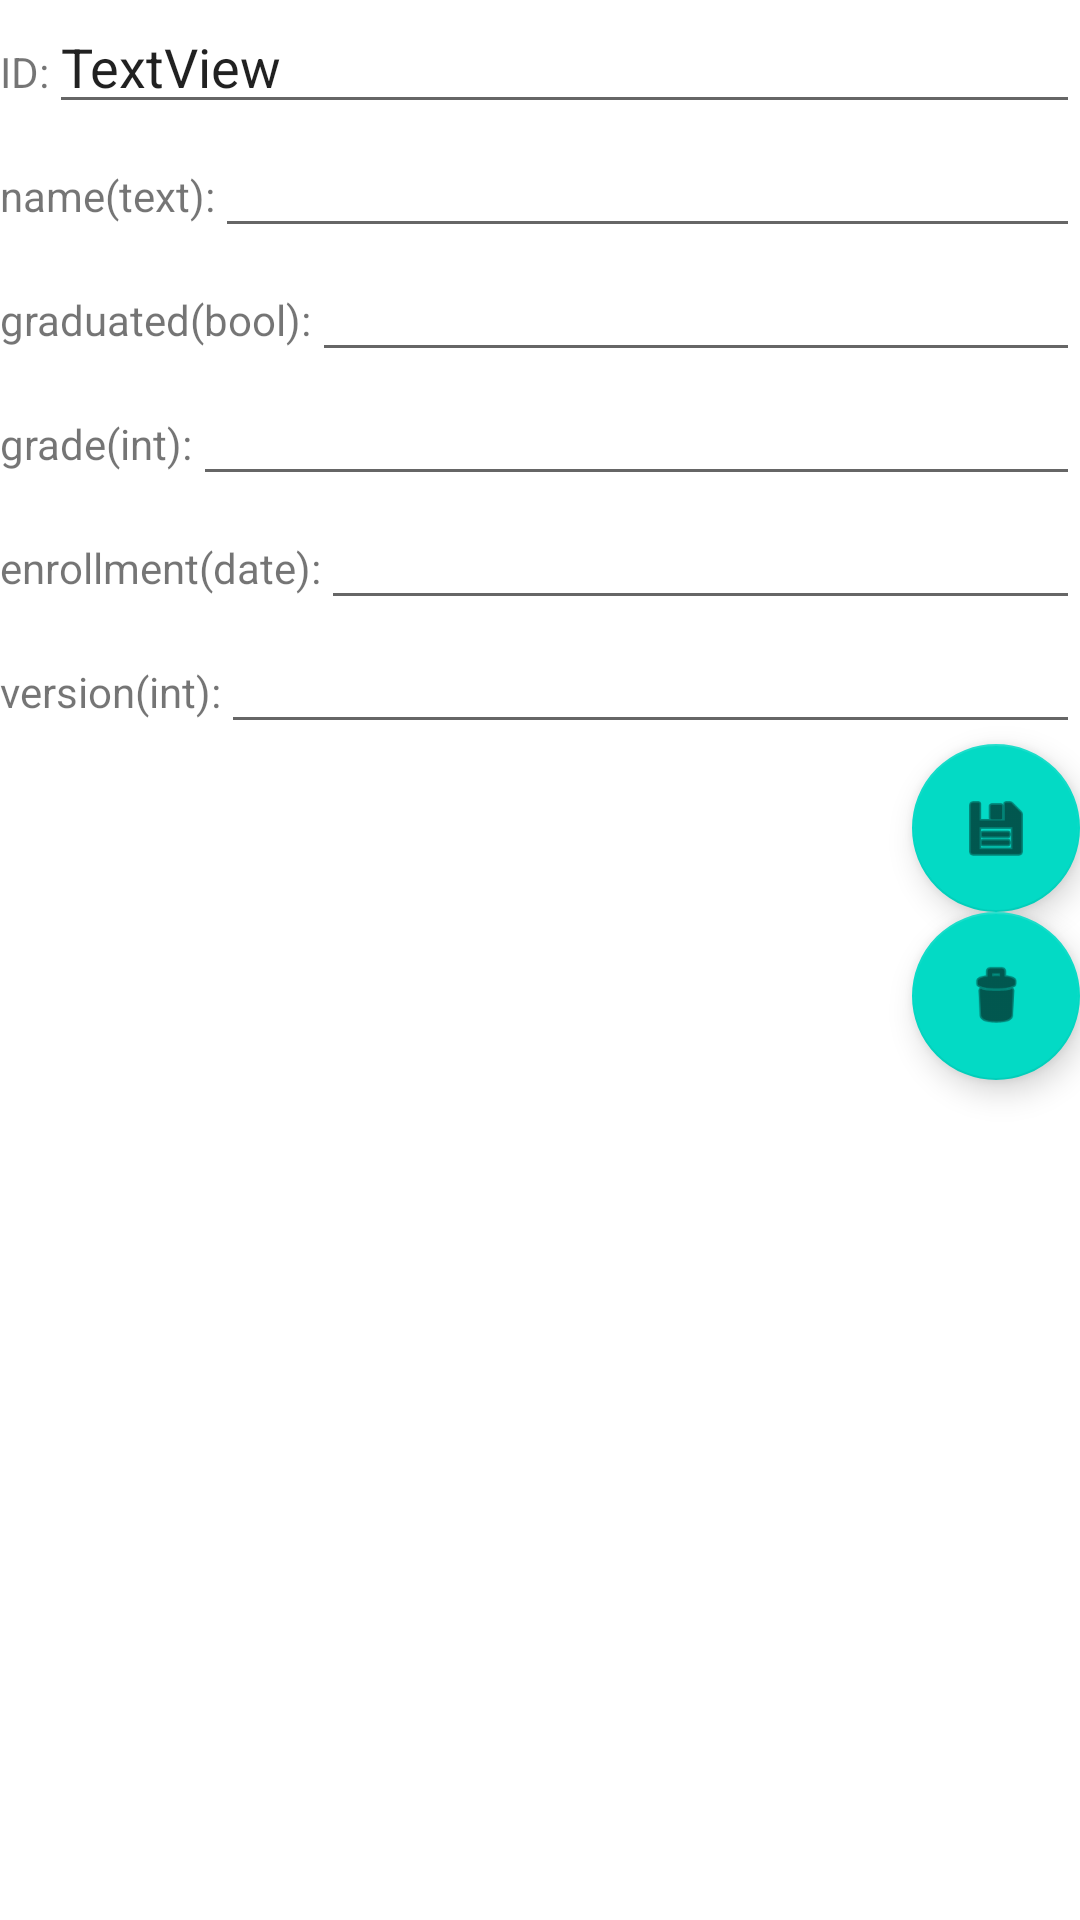

Icon click points for this 1080x1920 phone screenshot, format point (x, y):
delete: point (996, 996)
save: point (996, 828)
